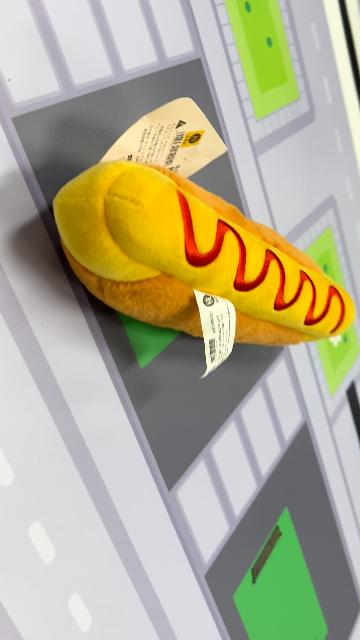hotdog: (52, 158, 356, 350)
